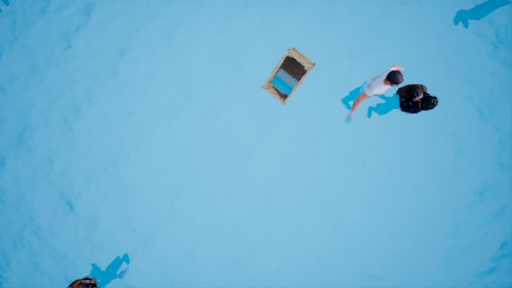person: (333, 66, 436, 123)
